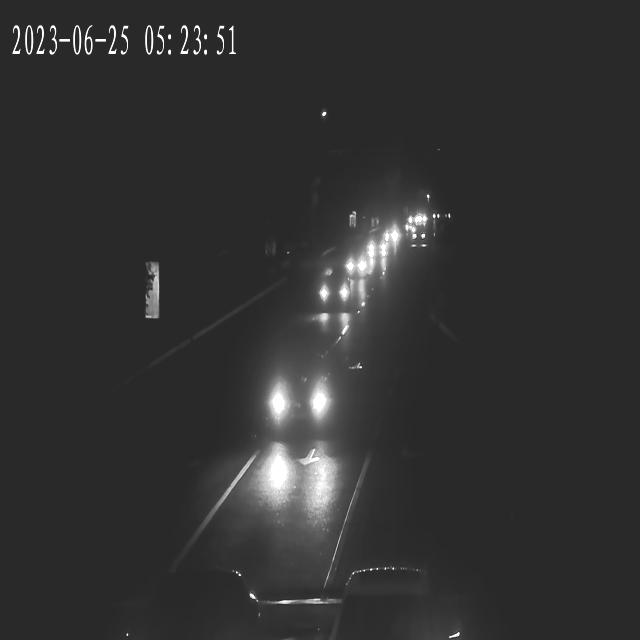Car: (264, 326, 350, 443), (320, 266, 354, 313), (346, 249, 371, 277), (367, 235, 390, 262), (383, 224, 407, 246), (416, 208, 428, 228)
